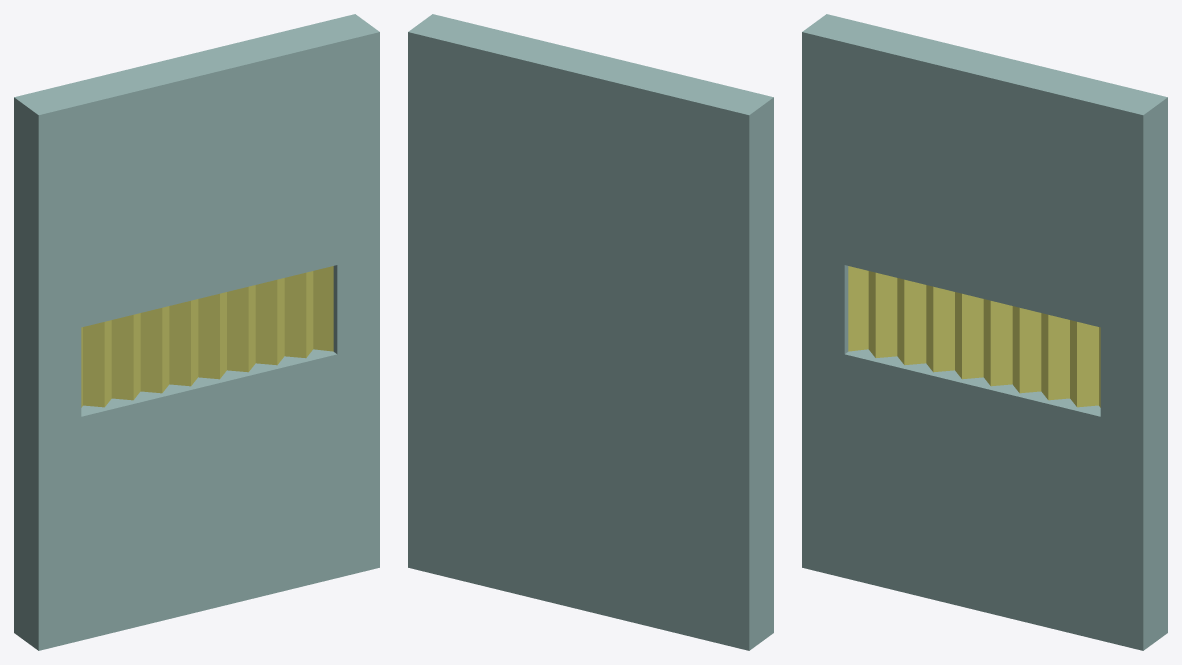
Rendered from BWall.fbx.
3 renders of one model, left to right at view 1: azimuth 30°, elevation 25°; view 2: azimuth 150°, elevation 25°; view 3: azimuth 330°, elevation 25°, orthographic.
Parts seen in each view (by area): view 1: BWall; view 2: BWall; view 3: BWall.
Boxes of the visible parts, left/top/right/bottom form: BWall: left=14, top=14, right=379, bottom=650; BWall: left=408, top=14, right=773, bottom=650; BWall: left=802, top=14, right=1167, bottom=650.
Bounding box in the file's own units: 400 × 600 × 50.
